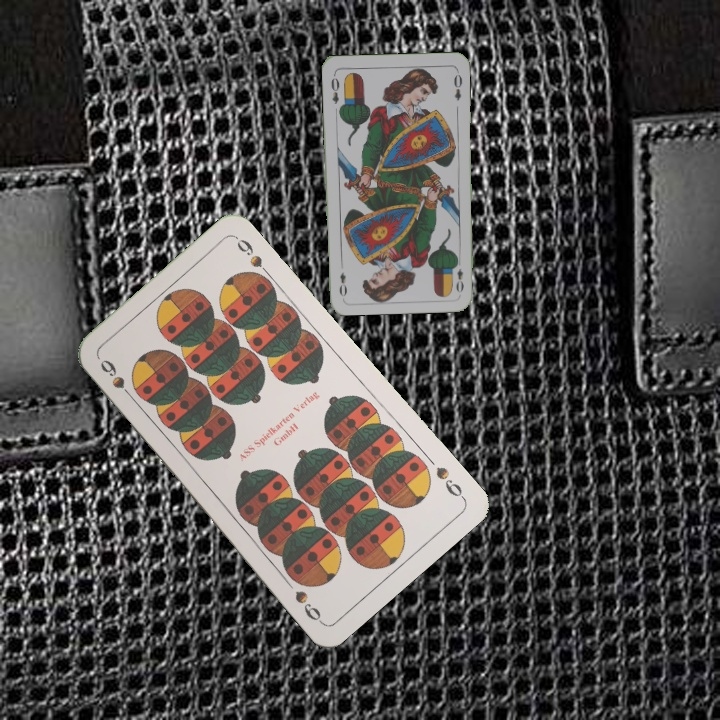EO: (451, 255, 466, 295), (327, 70, 342, 106)
S9: (96, 355, 138, 404), (431, 462, 468, 502)
